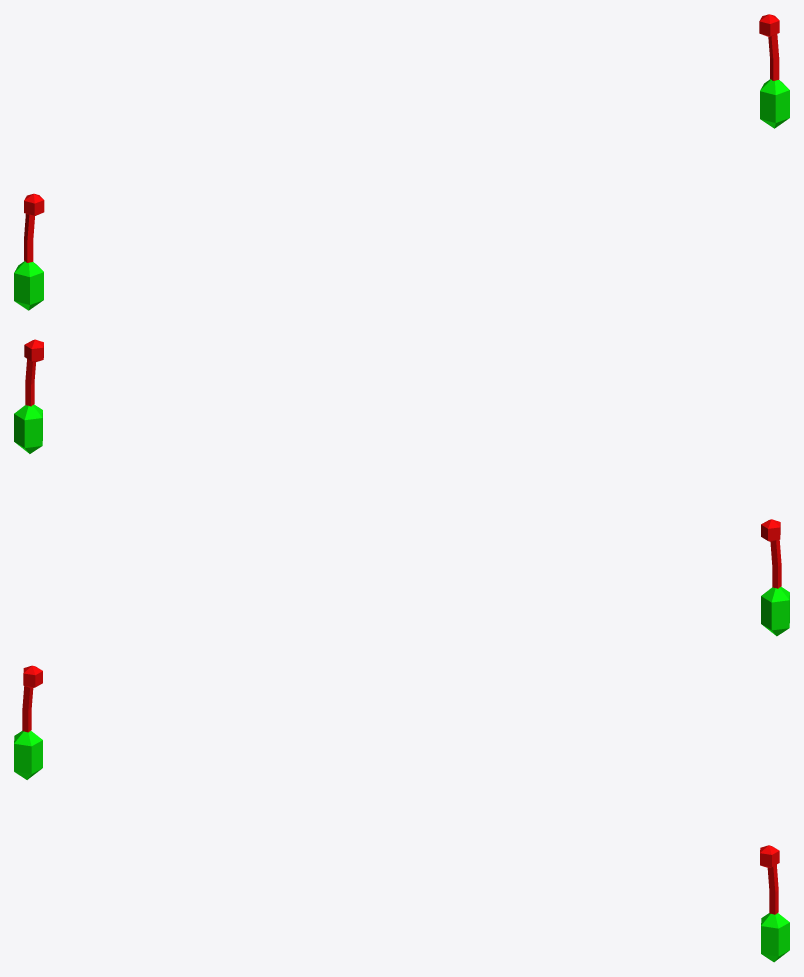
The model's file is ears_drop_01.glb.
3 views of the same model, one above another, from view 1: azimuth 30°, elevation 25°; view 2: azimuth 150°, elevation 25°; view 3: azimuth 330°, elevation 25° (orthographic).
Parts seen in each view (by area): view 1: ears_drop_01; view 2: ears_drop_01; view 3: ears_drop_01.
Boxes of the visible parts, x1=… form: ears_drop_01: x1=14, y1=14, x2=789, y2=310; ears_drop_01: x1=14, y1=339, x2=789, y2=636; ears_drop_01: x1=14, y1=665, x2=789, y2=962.
Bounding box in the file's own units: 0.2948 × 0.0423 × 0.00992.
1 material, 1 textured.
